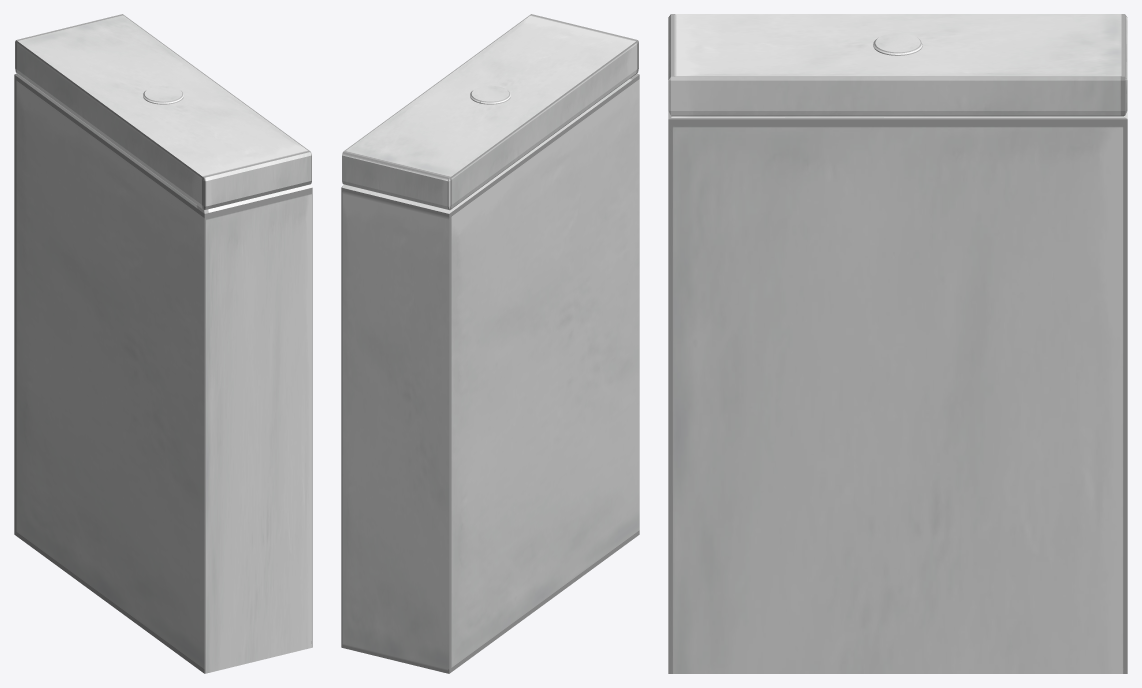
File: Toilet_Tank.fbx
3 views of the same model, side by side, from view 1: azimuth 30°, elevation 25°; view 2: azimuth 150°, elevation 25°; view 3: azimuth 270°, elevation 25° (orthographic). The views are drawn at different scales.
Parts seen in each view (by area): view 1: Cube, Cylinder; view 2: Cube, Cylinder; view 3: Cube, Cylinder.
Boxes of the visible parts, x1=… form: Cube: x1=14, y1=14, x2=312, y2=673; Cylinder: x1=143, y1=85, x2=183, y2=104; Cube: x1=341, y1=14, x2=639, y2=673; Cylinder: x1=470, y1=85, x2=510, y2=104; Cube: x1=668, y1=14, x2=1127, y2=673; Cylinder: x1=873, y1=33, x2=922, y2=55.
Bounding box in the file's own units: 9.15 × 40.26 × 27.94.
